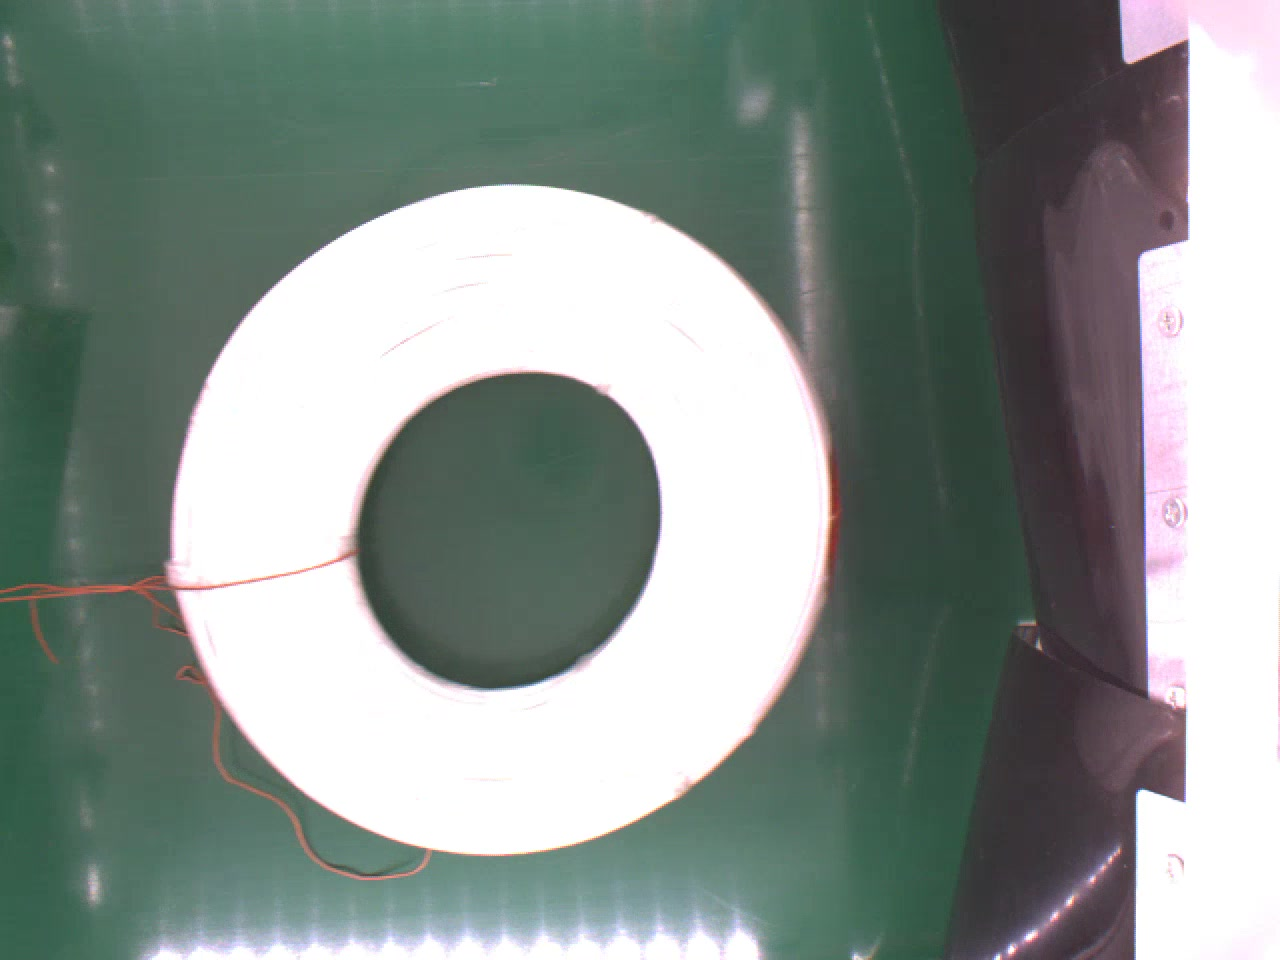white: (164, 178, 840, 861)
